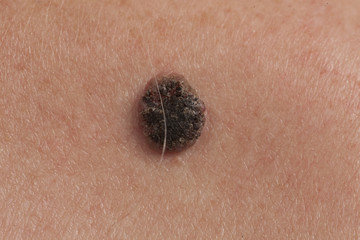melanoma: (114, 69, 247, 164)
